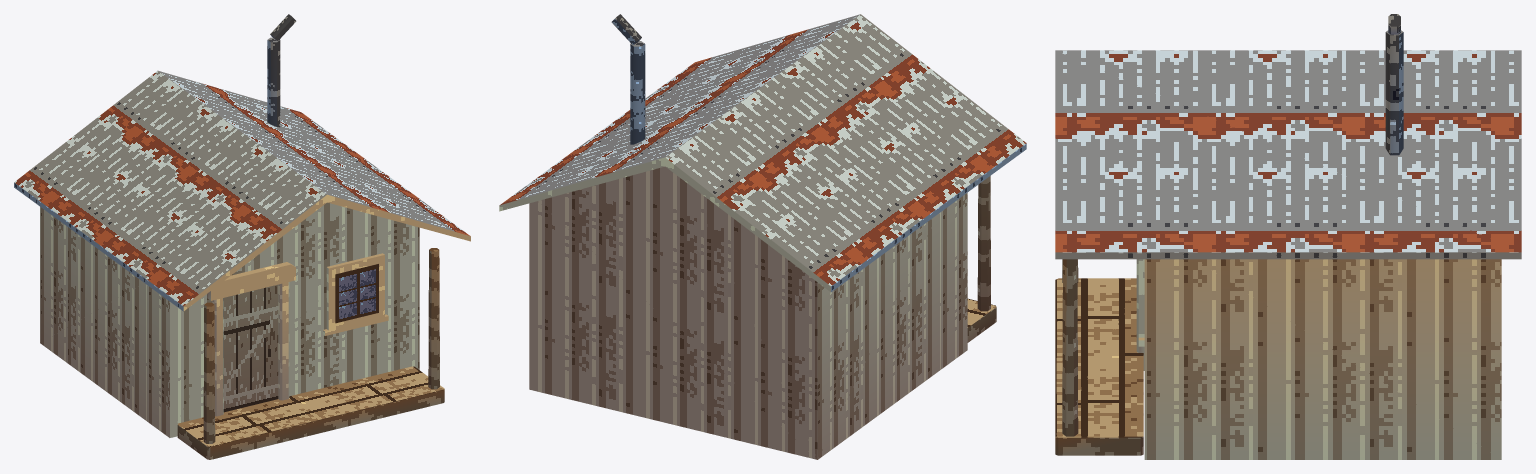
The model's file is wtown.shack.glb.
3 renders of one model, left to right at view 1: azimuth 30°, elevation 25°; view 2: azimuth 150°, elevation 25°; view 3: azimuth 270°, elevation 25°, orthographic. The views are drawn at different scales.
Parts seen in each view (by area): view 1: kit_roof, kit_body, kit_porch_deck, kit_card_panes, kit_trim, kit_porch, kit_windows, kit_pipe; view 2: kit_body, kit_roof, kit_porch, kit_pipe, kit_porch_deck; view 3: kit_roof, kit_body, kit_porch_deck, kit_porch, kit_pipe, kit_windows.
Part boxes in pixels (x1=…): kit_roof: x1=14, y1=70, x2=470, y2=311; kit_body: x1=40, y1=202, x2=419, y2=437; kit_porch_deck: x1=177, y1=366, x2=444, y2=459; kit_card_panes: x1=223, y1=264, x2=378, y2=412; kit_trim: x1=207, y1=262, x2=295, y2=416; kit_porch: x1=203, y1=248, x2=439, y2=443; kit_windows: x1=323, y1=253, x2=388, y2=335; kit_pipe: x1=267, y1=37, x2=280, y2=127; kit_body: x1=529, y1=166, x2=967, y2=459; kit_roof: x1=499, y1=14, x2=1026, y2=291; kit_porch: x1=977, y1=176, x2=990, y2=311; kit_pipe: x1=630, y1=41, x2=645, y2=144; kit_porch_deck: x1=967, y1=298, x2=996, y2=342; kit_roof: x1=1055, y1=50, x2=1521, y2=259; kit_body: x1=1144, y1=259, x2=1501, y2=459; kit_porch_deck: x1=1055, y1=278, x2=1143, y2=455; kit_porch: x1=1062, y1=259, x2=1078, y2=436; kit_pipe: x1=1385, y1=30, x2=1403, y2=155; kit_windows: x1=1138, y1=259, x2=1144, y2=346.
Size of the model in its own units: 4.6 by 4.67 by 4.7.
9 materials, 9 textured.
